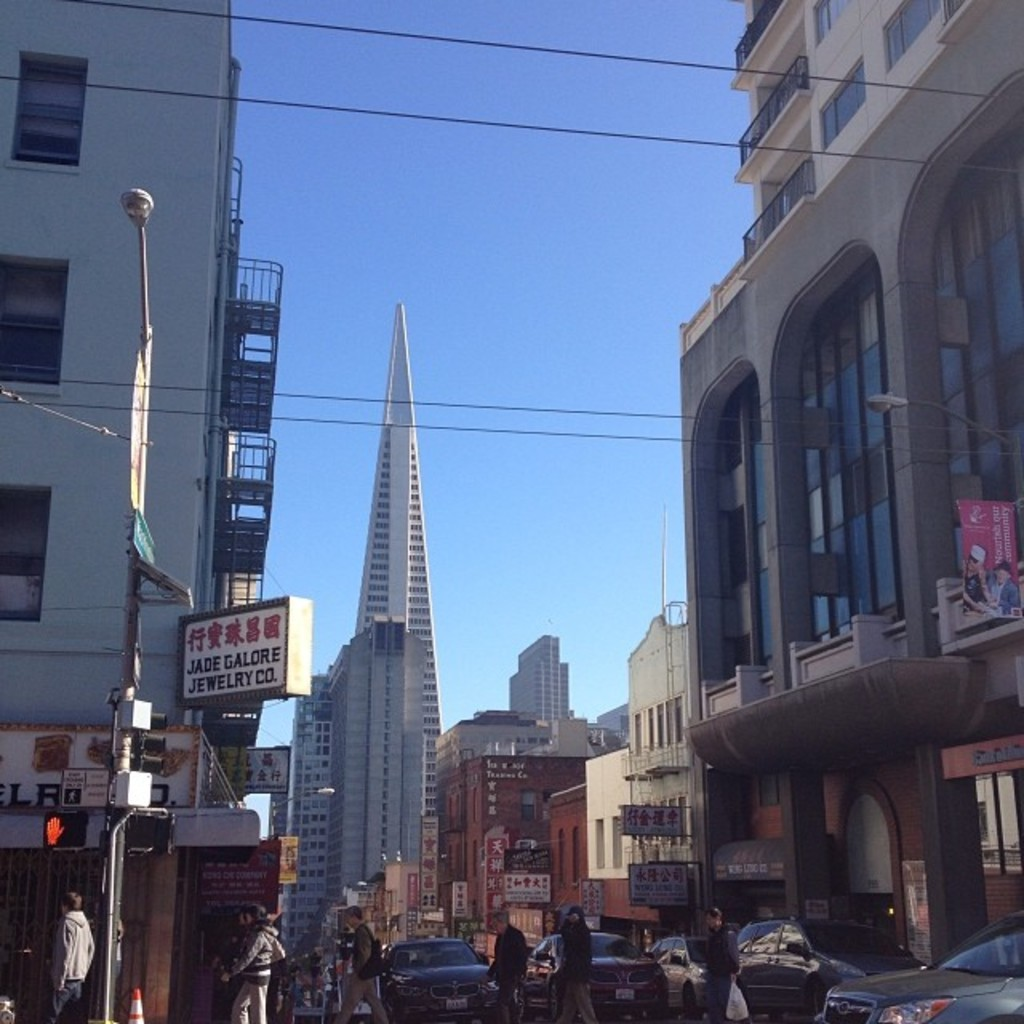cars: (822, 910, 1022, 1022), (523, 934, 670, 1022), (731, 919, 843, 1017), (384, 942, 510, 1022), (656, 936, 724, 1022)
